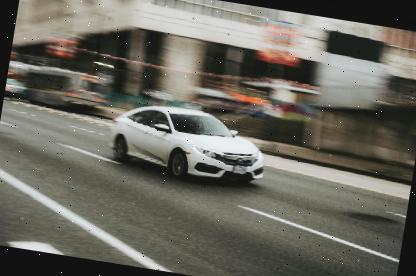car: (95, 88, 279, 202)
